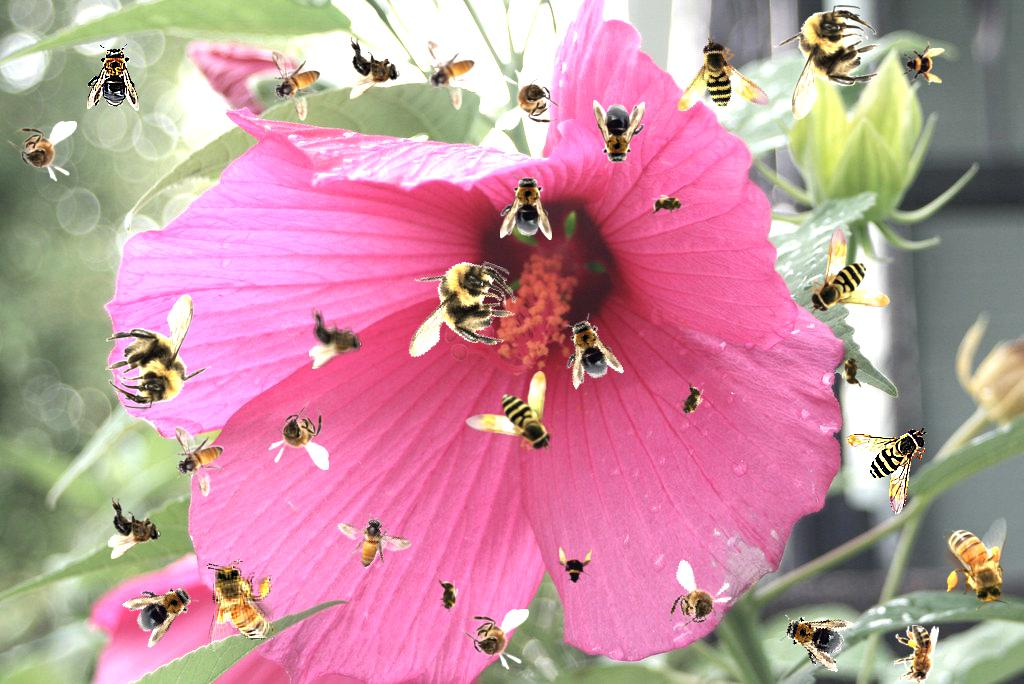Bee: (388, 240, 529, 385), (668, 33, 786, 149), (773, 5, 880, 120), (105, 294, 212, 409), (326, 498, 414, 583), (846, 427, 928, 515), (465, 371, 553, 453), (808, 226, 890, 314), (658, 558, 739, 646), (120, 567, 206, 649), (943, 517, 1011, 610), (206, 559, 274, 652), (551, 308, 625, 392), (773, 603, 855, 673), (7, 121, 77, 182), (459, 609, 529, 670), (495, 69, 565, 130), (268, 400, 329, 470), (426, 39, 476, 110), (271, 50, 321, 121), (174, 426, 224, 497), (593, 100, 645, 168), (87, 43, 139, 111), (500, 172, 552, 240), (347, 37, 400, 99), (309, 307, 362, 369), (108, 497, 161, 559), (894, 625, 939, 684), (551, 545, 595, 589), (901, 41, 945, 85), (672, 378, 710, 424), (437, 576, 459, 616), (648, 194, 688, 216), (841, 351, 863, 391)
